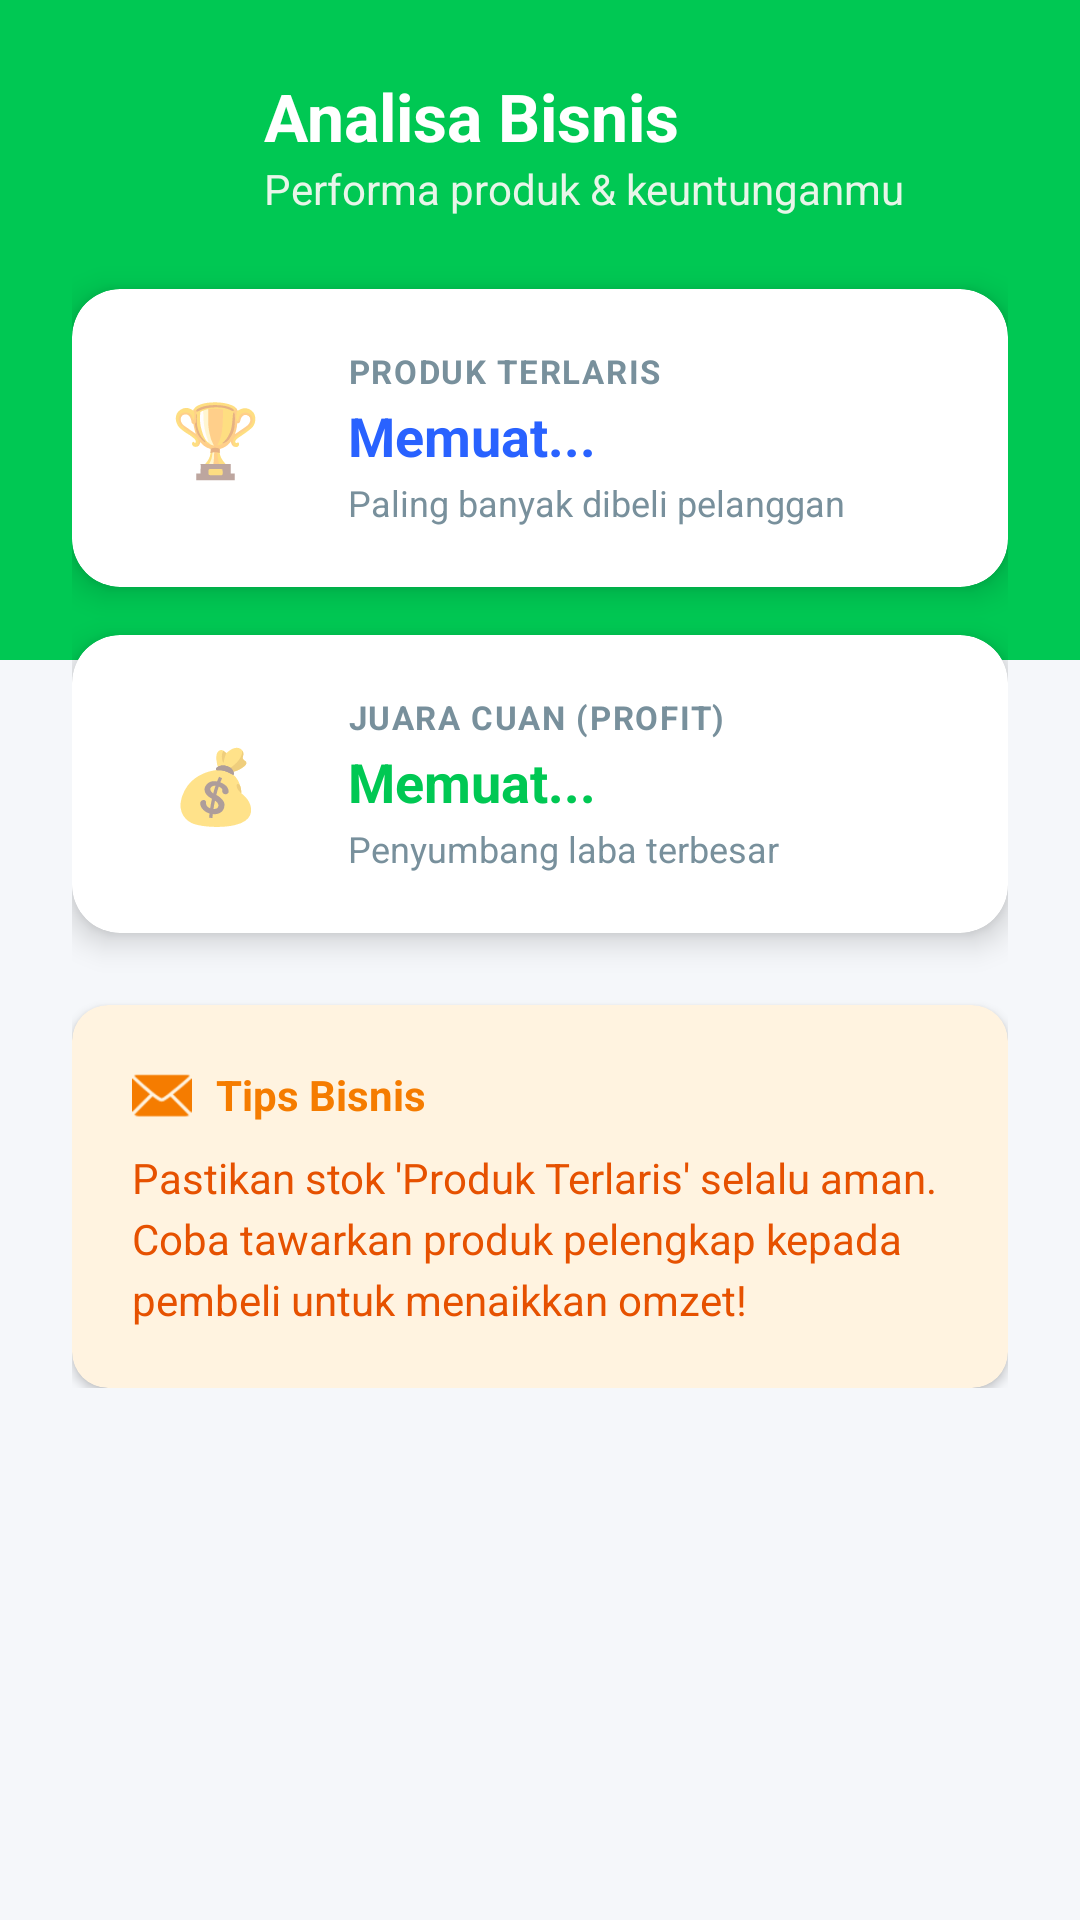

Icon click points for this 1080px×1920px phone screenshot, format (x,y):
email: (162,1095)
